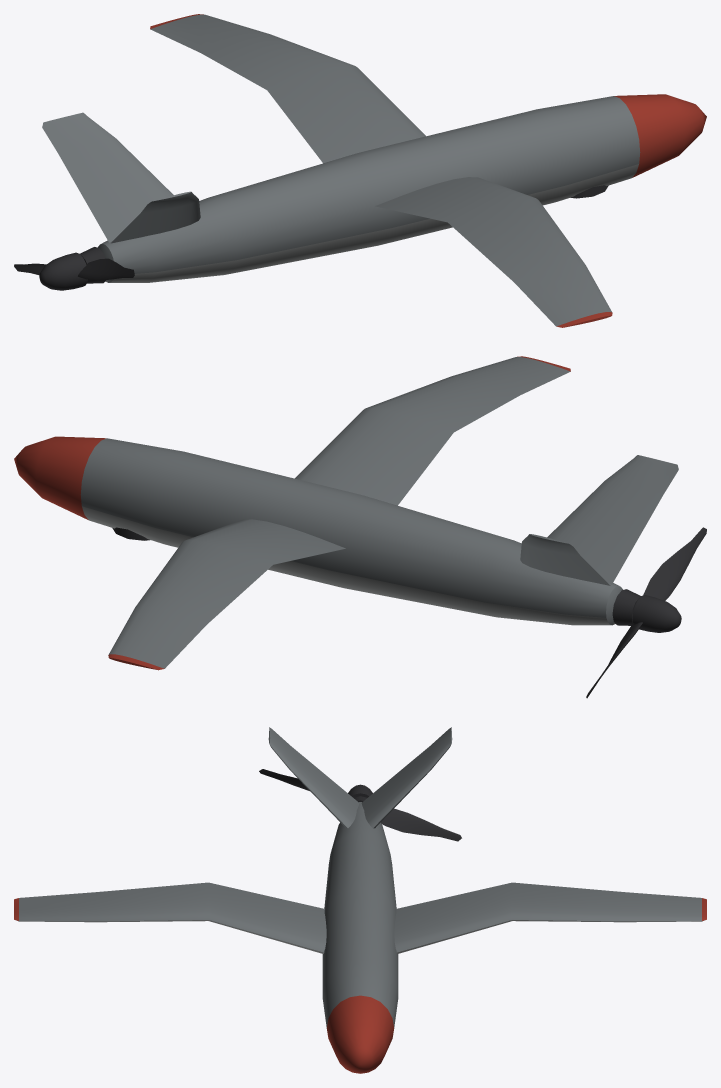
The model's file is fh_battle_e_drone_sea.glb.
3 renders of one model, top to bottom at view 1: azimuth 30°, elevation 25°; view 2: azimuth 150°, elevation 25°; view 3: azimuth 270°, elevation 25°, orthographic. The views are drawn at different scales.
Visible parts, largest first — view 1: body; view 2: body; view 3: body.
Part boxes in pixels (x1,y1,x2,y2): body: (14, 14, 706, 327); body: (14, 356, 706, 698); body: (14, 727, 706, 1073).
Size of the model in its own units: 1 by 0.2122 by 1.07.
